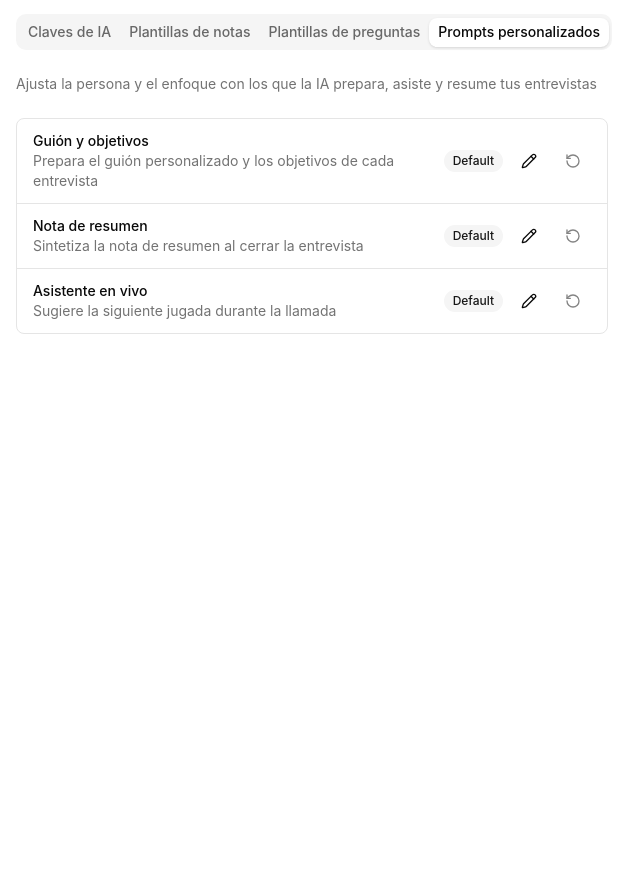
Test case: CustomPromptItem › accordion listing › keeps the first item expanded when expanding a second one (multiple expansion)
Click the button named "Editar prompt" in the row of "Guión y objetivos": (529, 161) [511,143,547,179]
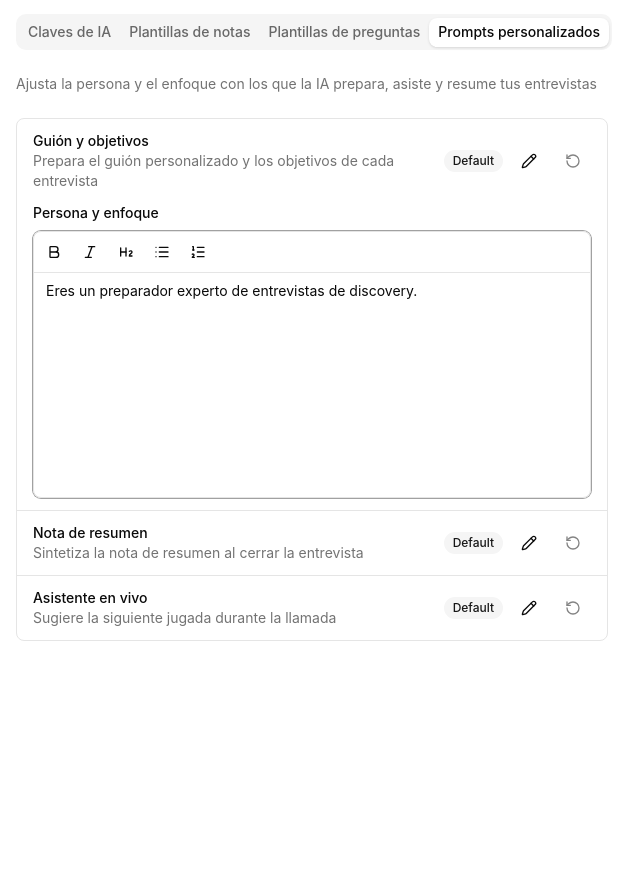
Click the 2nd button named "Editar prompt": (529, 543) [511,525,547,561]
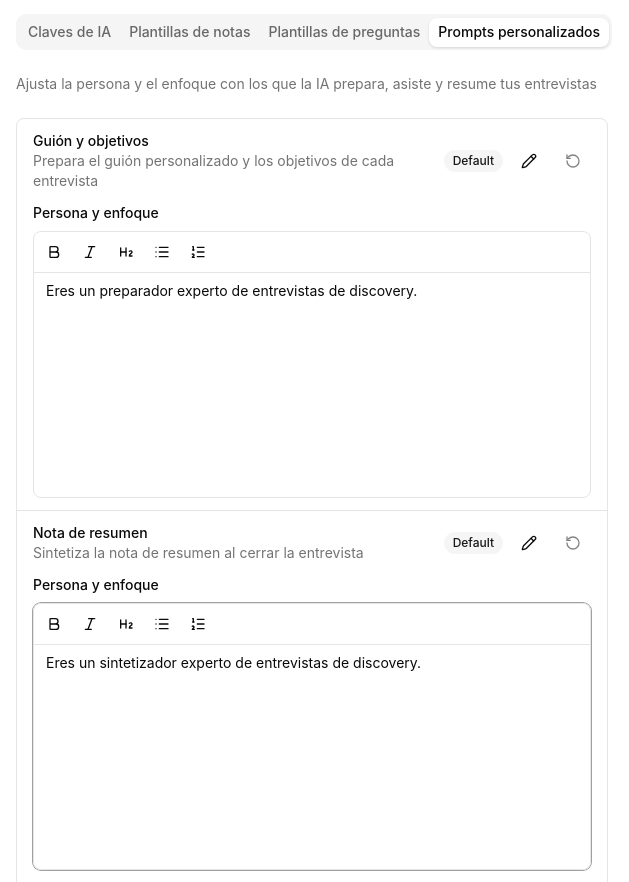
Expected: the element with test id "custom-prompt-panel-script" is shown, [33,203,591,498]
Expected: the element with test id "custom-prompt-panel-note" is shown, [33,575,591,870]
Expected: the text box "Eres un sintetizador experto de entrevistas de discovery." is shown, [46,654,421,671]
